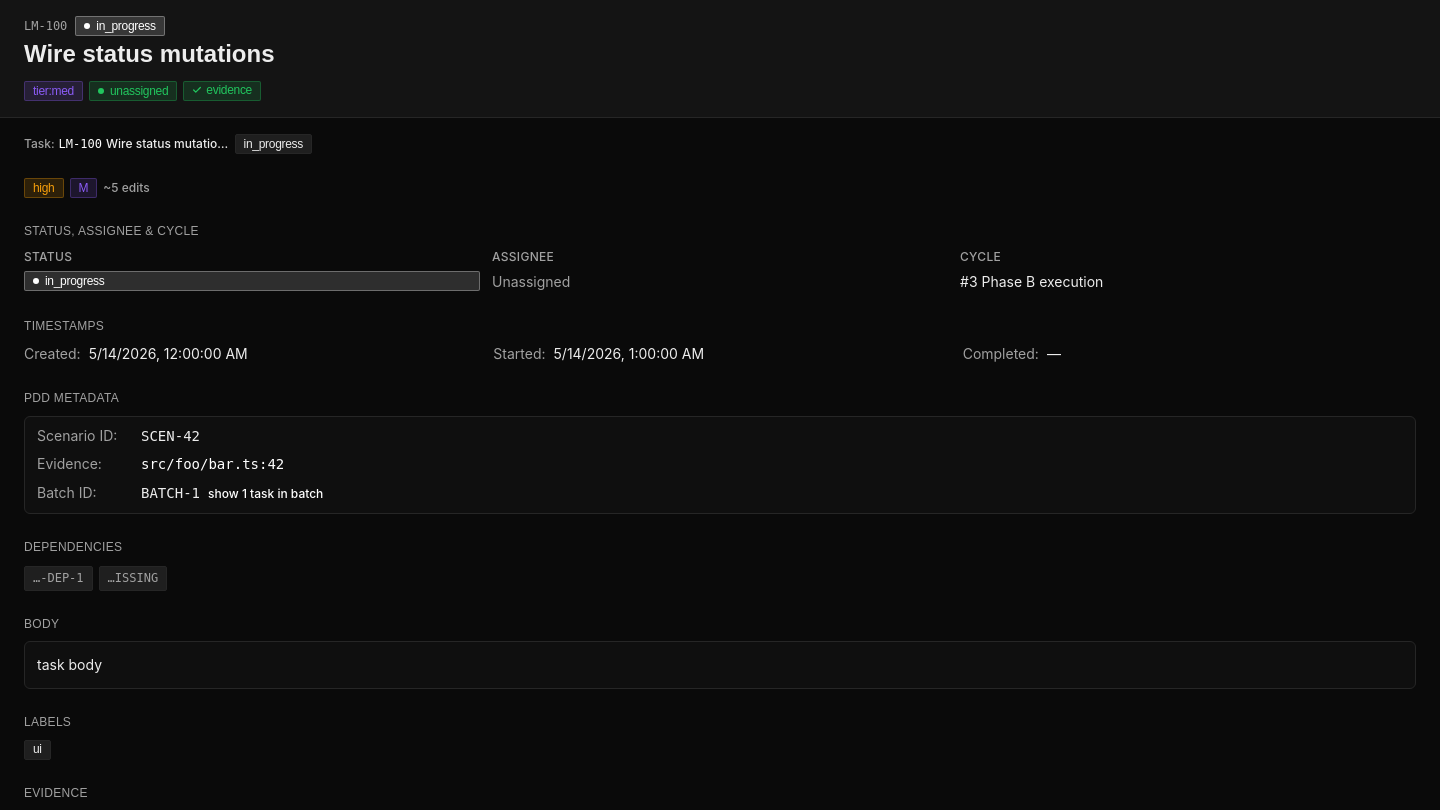
Test: TaskDetailPanel web-parity fields (LM-10979) › renders PDD metadata (scenario_id, evidence as source link, batch siblings)
Expected: the element with test id "task-detail-pdd" is shown, [24,416,1416,514]
Expected: the text with test id "task-detail-scenario-id" reads "SCEN-42", [141,428,200,444]
Click the button "show 1 task in batch": {"x": 266, "y": 494} [208,485,323,504]
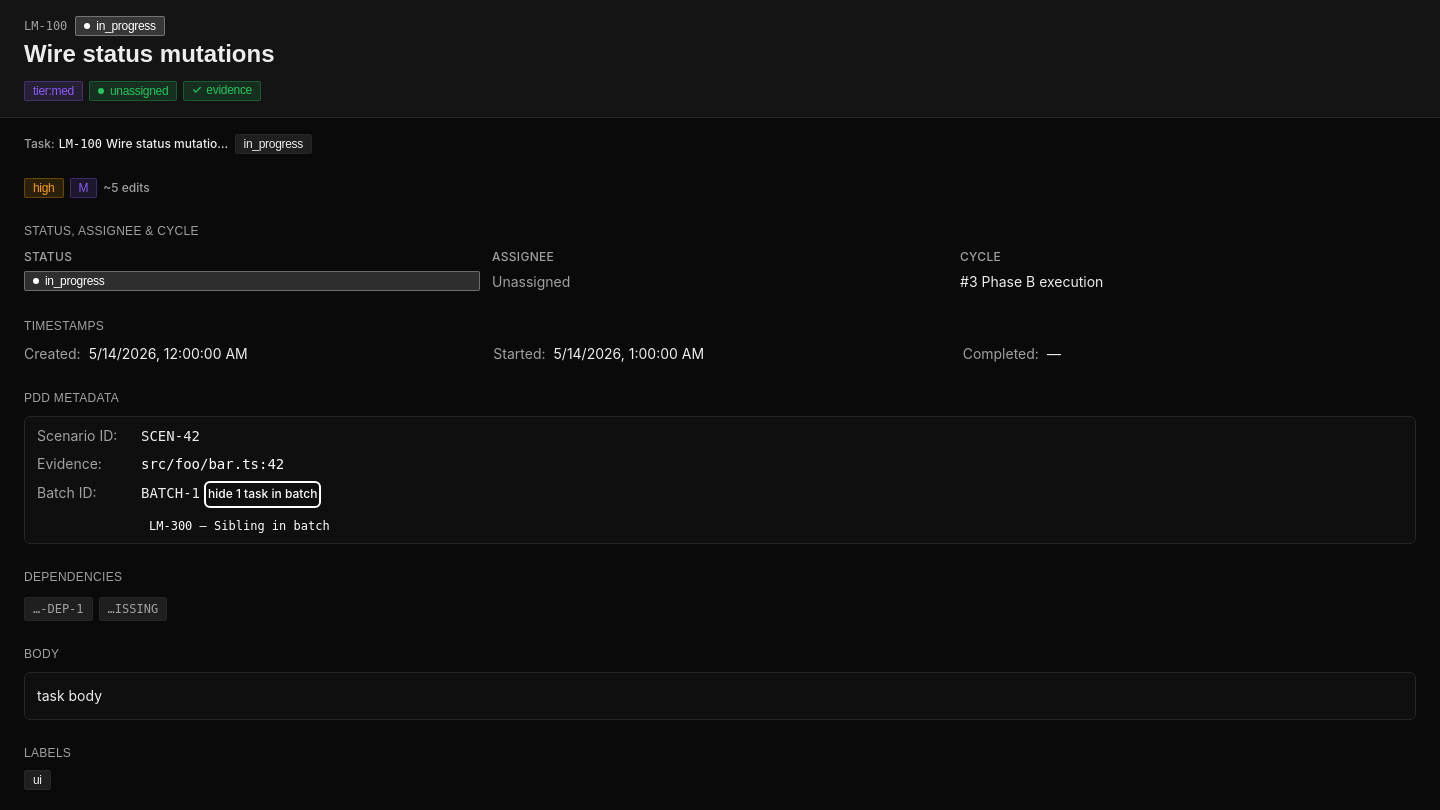
Expected: the button "LM-300 — Sibling in batch" is shown, [149,517,330,535]
